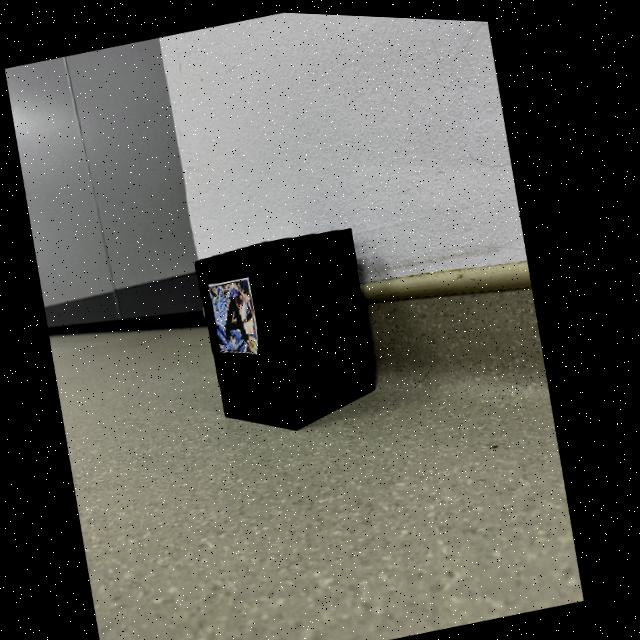A: (231, 293, 254, 339)
